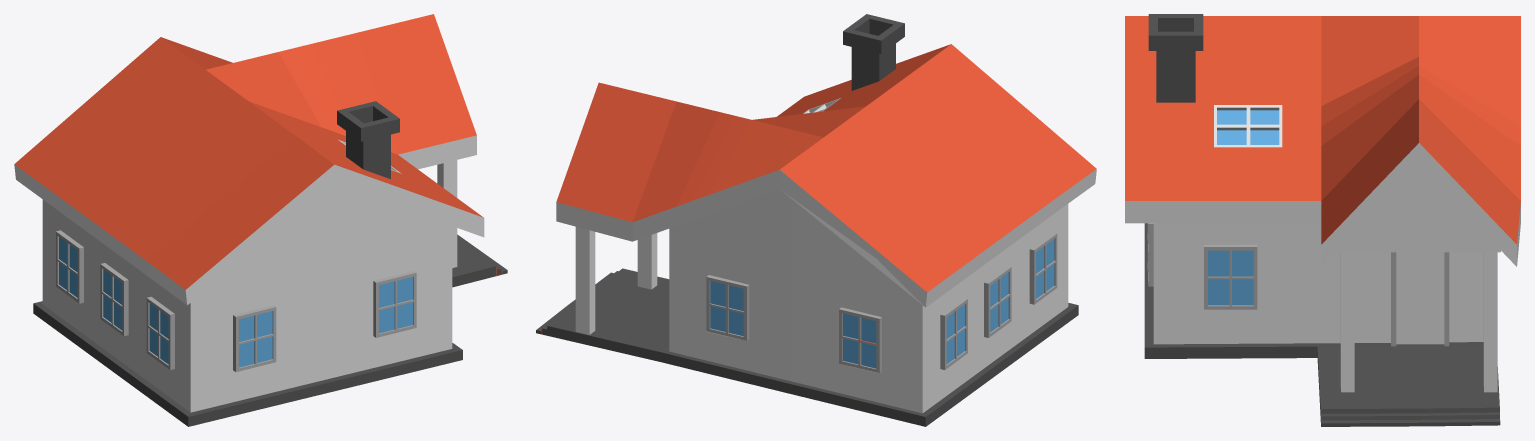
File: modernswehouse.fbx
3 renders of one model, left to right at view 1: azimuth 30°, elevation 25°; view 2: azimuth 150°, elevation 25°; view 3: azimuth 270°, elevation 25°, orthographic. The views are drawn at different scales.
Parts seen in each view (by area): view 1: Plane; view 2: Plane; view 3: Plane.
Boxes of the visible parts, x1,y1,x2,y2 form: Plane: (14,14,507,426); Plane: (536,14,1096,426); Plane: (1125,14,1520,426).
Size of the model in its own units: 274 by 164 by 203.
